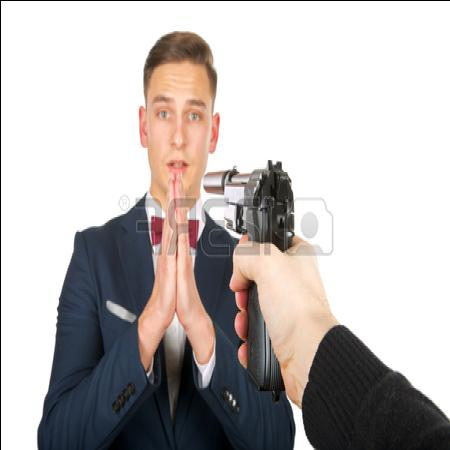Pistol: (202, 157, 302, 381)
